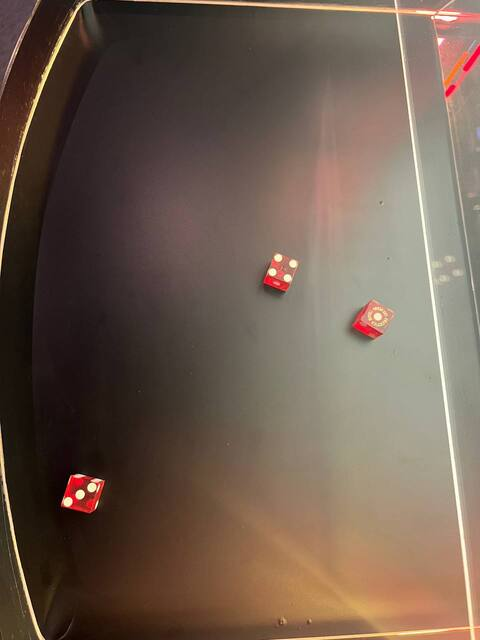four: (264, 248, 304, 290)
one: (355, 299, 397, 336)
three: (56, 477, 102, 512)
